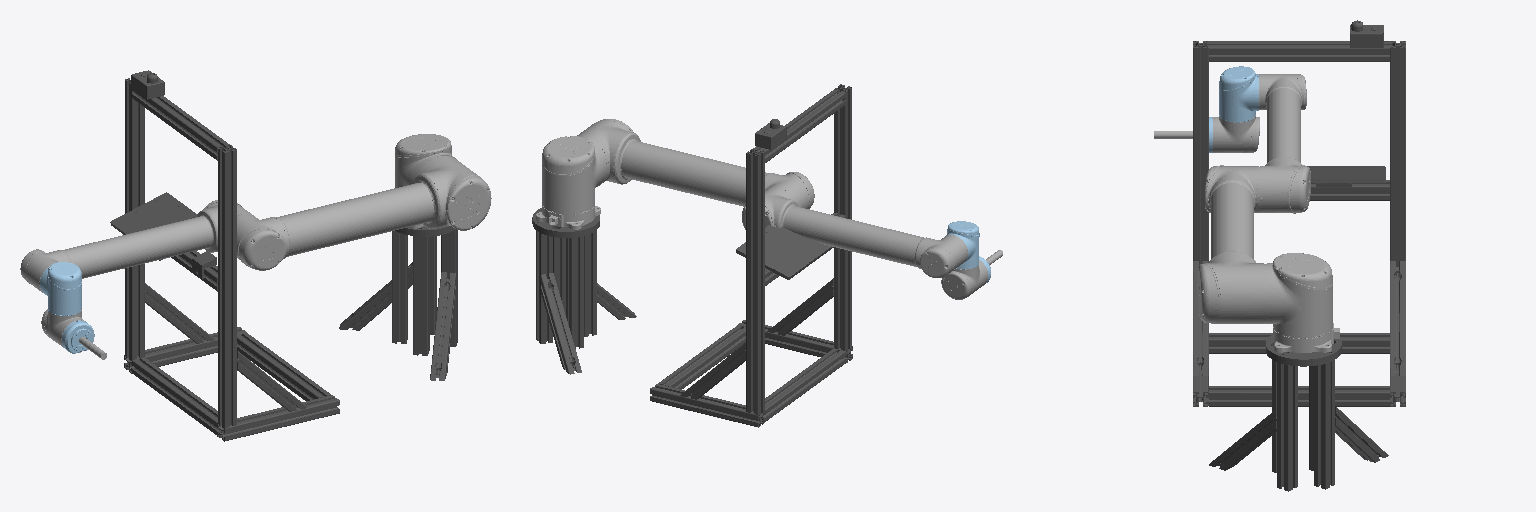
The robot description file, URDF, robot "thing":
<?xml version="1.0" ?>
<!-- =================================================================================== -->
<!-- |    This document was autogenerated by xacro from ridgeback.urdf.xacro           | -->
<!-- |    EDITING THIS FILE BY HAND IS NOT RECOMMENDED                                 | -->
<!-- =================================================================================== -->
<robot name="thing" xmlns:xacro="http://ros.org/wiki/xacro">
  <material name="dark_grey">
    <color rgba="0.2 0.2 0.2 1.0"/>
  </material>
  <material name="light_grey">
    <color rgba="0.4 0.4 0.4 1.0"/>
  </material>
  <material name="red">
    <color rgba="0.8 0.0 0.0 1.0"/>
  </material>
  <material name="white">
    <color rgba="0.9 0.9 0.9 1.0"/>
  </material>
  <material name="yellow">
    <color rgba="0.8 0.8 0.0 1.0"/>
  </material>
  <material name="black">
    <color rgba="0.15 0.15 0.15 1.0"/>
  </material>

  <!-- Ridgeback wheels -->
  <link name="front_rocker_link">
    <visual>
      <origin rpy="1.57079632679 0 1.57079632679" xyz="0 0 0"/>
      <geometry>
        <mesh filename="assets/ridgeback_description/meshes/rocker.stl"/>
      </geometry>
      <material name="black"/>
    </visual>
    <inertial>
      <origin rpy="1.57079632679 0 1.57079632679" xyz="0 0 0"/>
      <mass value="10.267"/>
      <inertia ixx="0.0288" ixy="2.20484e-6" ixz="-1.3145e-5" iyy="0.4324" iyz="1.8944e-3" izz="0.4130"/>
    </inertial>
  </link>
  <joint name="front_rocker" type="fixed">
    <parent link="axle_link"/>
    <child link="front_rocker_link"/>
    <origin rpy="0 0 0" xyz="0.319 0 0"/>
    <axis xyz="1 0 0"/>
    <limit effort="0" lower="-0.08726" upper="0.08726" velocity="0"/>
  </joint>
  <link name="front_left_wheel_link">
    <contact>
      <lateral_friction value="1.0"/>
      <rolling_friction value="0.0"/>
      <stiffness value="30000"/>
      <damping value="10000"/>
    </contact>
    <inertial>
      <origin rpy="0 0 0" xyz="0 0 0"/>
      <mass value="2.637"/>
      <!--<inertia ixx="3.3212e-3" ixy="0" ixz="0" iyy="6.6424e-3" iyz="0" izz="3.3212e-3"/>-->
      <inertia ixx="0.02467" ixy="0" ixz="0" iyy="0.02467" iyz="0" izz="0.04411"/>
    </inertial>
    <visual>
      <origin rpy="1.57079632679 0 0" xyz="0 0 0"/>
      <geometry>
        <mesh filename="assets/ridgeback_description/meshes/wheel.stl"/>
      </geometry>
      <material name="black"/>
    </visual>
    <collision>
      <origin rpy="1.57079632679 0 0" xyz="0 0 0"/>
      <geometry>
        <cylinder length="0.079" radius="0.0759"/>
      </geometry>
    </collision>
  </link>
  <joint name="front_left_wheel" type="fixed">
    <parent link="front_rocker_link"/>
    <child link="front_left_wheel_link"/>
    <origin rpy="0 0 0" xyz="0 0.2755 0"/>
    <axis xyz="0 1 0"/>
  </joint>
  <transmission name="front_wheel_trans">
    <type>transmission_interface/SimpleTransmission</type>
    <joint name="front_left_wheel">
      <hardwareInterface>hardware_interface/VelocityJointInterface</hardwareInterface>
    </joint>
    <actuator name="front_left_actuator">
      <mechanicalReduction>1</mechanicalReduction>
    </actuator>
  </transmission>
  <link name="front_right_wheel_link">
    <contact>
      <lateral_friction value="1.0"/>
      <rolling_friction value="0.0"/>
      <stiffness value="30000"/>
      <damping value="10000"/>
    </contact>
    <inertial>
      <origin rpy="0 0 0" xyz="0 0 0"/>
      <mass value="2.637"/>
      <!--<inertia ixx="3.3212e-3" ixy="0" ixz="0" iyy="6.6424e-3" iyz="0" izz="3.3212e-3"/>-->
      <inertia ixx="0.02467" ixy="0" ixz="0" iyy="0.02467" iyz="0" izz="0.04411"/>
    </inertial>
    <visual>
      <origin rpy="1.57079632679 0 0" xyz="0 0 0"/>
      <geometry>
        <mesh filename="assets/ridgeback_description/meshes/wheel.stl"/>
      </geometry>
      <material name="black"/>
    </visual>
    <collision>
      <origin rpy="1.57079632679 0 0" xyz="0 0 0"/>
      <geometry>
        <cylinder length="0.079" radius="0.0759"/>
      </geometry>
    </collision>
  </link>
  <joint name="front_right_wheel" type="fixed">
    <parent link="front_rocker_link"/>
    <child link="front_right_wheel_link"/>
    <origin rpy="0 0 0" xyz="0 -0.2755 0"/>
    <axis xyz="0 1 0"/>
  </joint>
  <transmission name="front_wheel_trans">
    <type>transmission_interface/SimpleTransmission</type>
    <joint name="front_right_wheel">
      <hardwareInterface>hardware_interface/VelocityJointInterface</hardwareInterface>
    </joint>
    <actuator name="front_right_actuator">
      <mechanicalReduction>1</mechanicalReduction>
    </actuator>
  </transmission>
  <link name="rear_rocker_link">
    <visual>
      <origin rpy="1.57079632679 0 1.57079632679" xyz="0 0 0"/>
      <geometry>
        <mesh filename="assets/ridgeback_description/meshes/rocker.stl"/>
      </geometry>
      <material name="black"/>
    </visual>
    <inertial>
      <origin rpy="1.57079632679 0 1.57079632679" xyz="0 0 0"/>
      <mass value="10.267"/>
      <inertia ixx="0.0288" ixy="2.20484e-6" ixz="-1.3145e-5" iyy="0.4324" iyz="1.8944e-3" izz="0.4130"/>
    </inertial>
  </link>
  <joint name="rear_rocker" type="fixed">
    <parent link="axle_link"/>
    <child link="rear_rocker_link"/>
    <origin rpy="0 0 0" xyz="-0.319 0 0"/>
    <axis xyz="1 0 0"/>
    <limit effort="0" velocity="0"/>
  </joint>
  <link name="rear_left_wheel_link">
    <contact>
      <lateral_friction value="1.0"/>
      <rolling_friction value="0.0"/>
      <stiffness value="30000"/>
      <damping value="10000"/>
    </contact>
    <inertial>
      <origin rpy="0 0 0" xyz="0 0 0"/>
      <mass value="2.637"/>
      <!--<inertia ixx="3.3212e-3" ixy="0" ixz="0" iyy="6.6424e-3" iyz="0" izz="3.3212e-3"/>-->
      <inertia ixx="0.02467" ixy="0" ixz="0" iyy="0.02467" iyz="0" izz="0.04411"/>
    </inertial>
    <visual>
      <origin rpy="1.57079632679 0 0" xyz="0 0 0"/>
      <geometry>
        <mesh filename="assets/ridgeback_description/meshes/wheel.stl"/>
      </geometry>
      <material name="black"/>
    </visual>
    <collision>
      <origin rpy="1.57079632679 0 0" xyz="0 0 0"/>
      <geometry>
        <cylinder length="0.079" radius="0.0759"/>
      </geometry>
    </collision>
  </link>
  <joint name="rear_left_wheel" type="fixed">
    <parent link="rear_rocker_link"/>
    <child link="rear_left_wheel_link"/>
    <origin rpy="0 0 0" xyz="0 0.2755 0"/>
    <axis xyz="0 1 0"/>
  </joint>
  <transmission name="rear_wheel_trans">
    <type>transmission_interface/SimpleTransmission</type>
    <joint name="rear_left_wheel">
      <hardwareInterface>hardware_interface/VelocityJointInterface</hardwareInterface>
    </joint>
    <actuator name="rear_left_actuator">
      <mechanicalReduction>1</mechanicalReduction>
    </actuator>
  </transmission>
  <link name="rear_right_wheel_link">
    <contact>
      <lateral_friction value="1.0"/>
      <rolling_friction value="0.0"/>
      <stiffness value="30000"/>
      <damping value="10000"/>
    </contact>
    <inertial>
      <origin rpy="0 0 0" xyz="0 0 0"/>
      <mass value="2.637"/>
      <!--<inertia ixx="3.3212e-3" ixy="0" ixz="0" iyy="6.6424e-3" iyz="0" izz="3.3212e-3"/>-->
      <inertia ixx="0.02467" ixy="0" ixz="0" iyy="0.02467" iyz="0" izz="0.04411"/>
    </inertial>
    <visual>
      <origin rpy="1.57079632679 0 0" xyz="0 0 0"/>
      <geometry>
        <mesh filename="assets/ridgeback_description/meshes/wheel.stl"/>
      </geometry>
      <material name="black"/>
    </visual>
    <collision>
      <origin rpy="1.57079632679 0 0" xyz="0 0 0"/>
      <geometry>
        <cylinder length="0.079" radius="0.0759"/>
      </geometry>
    </collision>
  </link>
  <joint name="rear_right_wheel" type="fixed">
    <parent link="rear_rocker_link"/>
    <child link="rear_right_wheel_link"/>
    <origin rpy="0 0 0" xyz="0 -0.2755 0"/>
    <axis xyz="0 1 0"/>
  </joint>
  <transmission name="rear_wheel_trans">
    <type>transmission_interface/SimpleTransmission</type>
    <joint name="rear_right_wheel">
      <hardwareInterface>hardware_interface/VelocityJointInterface</hardwareInterface>
    </joint>
    <actuator name="rear_right_actuator">
      <mechanicalReduction>1</mechanicalReduction>
    </actuator>
  </transmission>
  <link name="base_link"/>
  <joint name="base_link_joint" type="fixed">
    <origin rpy="0 0 0" xyz="0 0 0"/>
    <parent link="base_link"/>
    <child link="chassis_link"/>
  </joint>
  <link name="chassis_link">
    <visual>
      <origin rpy="0 0 0" xyz="0 0 0"/>
      <geometry>
        <mesh filename="assets/ridgeback_description/meshes/body.stl"/>
      </geometry>
      <material name="black"/>
    </visual>
    <collision>
      <origin xyz="0 0 0"/>
      <geometry>
        <mesh filename="assets/ridgeback_description/meshes/body-collision.stl"/>
      </geometry>
    </collision>
    <inertial>
      <origin rpy="1.57079632679 0 1.57079632679" xyz="0.012 0.002 0.067"/>
      <mass value="300.304"/>
      <inertia ixx="4.4744" ixy="0.03098" ixz="0.003647" iyy="7.1624" iyz="0.1228" izz="4.6155"/>
    </inertial>
  </link>
  <joint name="right_side_cover_link_joint" type="fixed">
    <origin rpy="0 0 0" xyz="0 0 0"/>
    <parent link="chassis_link"/>
    <child link="right_side_cover_link"/>
  </joint>
  <joint name="left_side_cover_link_joint" type="fixed">
    <origin rpy="0 0 0" xyz="0 0 0"/>
    <parent link="chassis_link"/>
    <child link="left_side_cover_link"/>
  </joint>
  <link name="left_side_cover_link">
    <visual>
      <origin rpy="0 0 3.14159265359" xyz="0 0 0"/>
      <geometry>
        <mesh filename="assets/ridgeback_description/meshes/side-cover.stl"/>
      </geometry>
      <material name="yellow"/>
    </visual>
  </link>
  <link name="right_side_cover_link">
    <visual>
      <origin rpy="0 0 0" xyz="0 0 0"/>
      <geometry>
        <mesh filename="assets/ridgeback_description/meshes/side-cover.stl"/>
      </geometry>
      <material name="yellow"/>
    </visual>
  </link>
  <joint name="front_cover_link_joint" type="fixed">
    <origin rpy="0 0 0" xyz="0 0 0"/>
    <parent link="chassis_link"/>
    <child link="front_cover_link"/>
  </joint>
  <link name="front_cover_link">
    <visual>
      <origin rpy="0 0 0" xyz="0 0 0"/>
      <geometry>
        <mesh filename="assets/ridgeback_description/meshes/end-cover.stl"/>
      </geometry>
      <material name="black"/>
    </visual>
  </link>
  <joint name="rear_cover_link_joint" type="fixed">
    <origin rpy="0 0 0" xyz="0 0 0"/>
    <parent link="chassis_link"/>
    <child link="rear_cover_link"/>
  </joint>
  <link name="rear_cover_link">
    <visual>
      <origin rpy="0 0 3.14159265359" xyz="0 0 0"/>
      <geometry>
        <mesh filename="assets/ridgeback_description/meshes/end-cover.stl"/>
      </geometry>
      <material name="black"/>
    </visual>
  </link>
  <joint name="front_lights_link_joint" type="fixed">
    <origin rpy="0 0 0" xyz="0 0 0"/>
    <parent link="chassis_link"/>
    <child link="front_lights_link"/>
  </joint>
  <joint name="rear_lights_link_joint" type="fixed">
    <origin rpy="0 0 0" xyz="0 0 0"/>
    <parent link="chassis_link"/>
    <child link="rear_lights_link"/>
  </joint>
  <link name="front_lights_link">
    <visual>
      <origin rpy="0 0 0" xyz="0 0 0"/>
      <geometry>
        <mesh filename="assets/ridgeback_description/meshes/lights.stl"/>
      </geometry>
      <material name="white"/>
    </visual>
  </link>
  <link name="rear_lights_link">
    <visual>
      <origin rpy="0 0 3.14159265359" xyz="0 0 0"/>
      <geometry>
        <mesh filename="assets/ridgeback_description/meshes/lights.stl"/>
      </geometry>
      <material name="red"/>
    </visual>
  </link>
  <joint name="top_link_joint" type="fixed">
    <origin rpy="0 0 0" xyz="0 0 0"/>
    <parent link="chassis_link"/>
    <child link="top_link"/>
  </joint>
  <link name="top_link">
    <visual>
      <origin rpy="0 0 0" xyz="0 0 0"/>
      <geometry>
        <mesh filename="assets/ridgeback_description/meshes/top.stl"/>
      </geometry>
      <material name="black"/>
    </visual>
    <collision>
      <origin rpy="0 0 0" xyz="0 0 0"/>
      <geometry>
        <mesh filename="assets/ridgeback_description/meshes/top.stl"/>
      </geometry>
    </collision>
  </link>
  <joint name="axle_joint" type="fixed">
    <origin rpy="0 0 0" xyz="0 0 0.05"/>
    <parent link="chassis_link"/>
    <child link="axle_link"/>
  </joint>
  <link name="axle_link">
    <visual>
      <origin rpy="0 1.57079632679 0" xyz="0 0 0"/>
      <geometry>
        <mesh filename="assets/ridgeback_description/meshes/axle.stl"/>
      </geometry>
      <material name="black"/>
    </visual>
  </link>
  <link name="imu_link">
    <inertial>
      <mass value="0.001"/>
      <origin rpy="0 0 0" xyz="0 0 0"/>
      <inertia ixx="1e-09" ixy="0.0" ixz="0.0" iyy="1e-09" iyz="0.0" izz="1e-09"/>
    </inertial>
  </link>
  <joint name="imu_joint" type="fixed">
    <parent link="chassis_link"/>
    <child link="imu_link"/>
    <origin rpy="0 0 0" xyz="0.2085 -0.2902 0.1681"/>
  </joint>
  <link name="mid_mount"/>
  <joint name="mid_mount_joint" type="fixed">
    <parent link="base_link"/>
    <child link="mid_mount"/>
    <origin rpy="0 0 0" xyz="0 0 0.28"/>
  </joint>

  <link name="arch_link">
  <visual>
    <origin rpy="1.570795 0 0" xyz="0.0 0.0 0.0"/>
    <geometry>
      <mesh filename="assets/ridgeback_description/meshes/tor11_mech.stl" />
    </geometry>
    <material name="light_grey"/>
  </visual>
  <collision>
    <origin rpy="1.570795 0 0" xyz="0.0 0.0 0.0"/>
    <geometry>
      <mesh filename="assets/ridgeback_description/meshes/tor11_mech.stl" />
    </geometry>
  </collision>
 </link>

<joint name="arch_joint" type="fixed">
  <origin xyz="0 0 0.278" rpy="0 0 1.57" />
  <parent link="top_link" />
  <child link="arch_link" />
</joint>

<!-- Join arm and arch link -->
<joint name="ur10_arm_base" type="fixed">
  <parent link="arch_link" />
  <child link="ur10_base_link" />
  <origin xyz="0.01 -0.27 0.375" rpy="0.0 0.0 1.570796" />
</joint>

<!-- common stuff -->
<material name="blackish">
  <color rgba="0.2 0.2 0.2 1"/>
</material>
<material name="LightGrey">
  <color rgba="0.7 0.7 0.7 1.0"/>
</material>
<material name="LightBlue">
  <color rgba="0.670 0.815 0.921 1.0"/>
</material>

<link name="ur10_base_link">
  <visual>
    <origin xyz="0 0 0" rpy="1.57 0 0"/>
    <geometry>
      <mesh filename="assets/ur_description/meshes/ur10/visual/Base.obj"/>
    </geometry>
    <material name="LightGrey"/>
  </visual>
  <collision>
    <geometry>
      <mesh filename="assets/ur_description/meshes/ur10/collision/base.stl"/>
    </geometry>
  </collision>
  <inertial>
    <mass value="8.0"/>
    <origin rpy="0 0 0" xyz="0.0 0.0 0.0"/>
    <inertia ixx="0.0061063308908" ixy="0.0" ixz="0.0" iyy="0.0061063308908" iyz="0.0" izz="0.01125"/>
  </inertial>
</link>
<joint name="shoulder_pan_joint" type="revolute">
  <parent link="ur10_base_link"/>
  <child link="shoulder_link"/>
  <origin rpy="0.0 0.0 0.0" xyz="0.0 0.0 0.1273"/>
  <axis xyz="0 0 1"/>
  <limit effort="330.0" lower="-6.2831853" upper="6.2831853" velocity="2.16"/>
  <dynamics damping="0.0" friction="0.0"/>
</joint>
<link name="shoulder_link">
  <visual>
    <origin xyz="0 0 0" rpy="1.57 0 0"/>
    <geometry>
      <mesh filename="assets/ur_description/meshes/ur10/visual/Shoulder.obj"/>
    </geometry>
    <material name="LightGrey"/>
  </visual>
  <collision>
    <geometry>
      <mesh filename="assets/ur_description/meshes/ur10/collision/shoulder.stl"/>
    </geometry>
  </collision>
  <inertial>
    <mass value="14.778"/>
    <origin rpy="0 0 0" xyz="0.0 0.0 0.0"/>
    <inertia ixx="0.0314743125769" ixy="0.0" ixz="0.0" iyy="0.0314743125769" iyz="0.0" izz="0.021875625"/>
  </inertial>
</link>
<joint name="shoulder_lift_joint" type="revolute">
  <parent link="shoulder_link"/>
  <child link="upper_arm_link"/>
  <origin rpy="0.0 1.570796325 0.0" xyz="0.0 0.220941 0.0"/>
  <axis xyz="0 1 0"/>
  <limit effort="330.0" lower="-6.2831853" upper="6.2831853" velocity="2.16"/>
  <dynamics damping="0.0" friction="0.0"/>
</joint>
<link name="upper_arm_link">
  <visual>
    <origin xyz="0 0 0" rpy="1.57 0 0"/>
    <geometry>
      <mesh filename="assets/ur_description/meshes/ur10/visual/UpperArm.obj"/>
    </geometry>
    <material name="LightGrey"/>
  </visual>
  <collision>
    <geometry>
      <mesh filename="assets/ur_description/meshes/ur10/collision/upper_arm.stl"/>
    </geometry>
  </collision>
  <inertial>
    <mass value="24.93"/>
    <origin rpy="0 0 0" xyz="0.0 0.0 0.306"/>
    <inertia ixx="0.421753803798" ixy="0.0" ixz="0.0" iyy="0.421753803798" iyz="0.0" izz="0.036365625"/>
  </inertial>
</link>
<joint name="elbow_joint" type="revolute">
  <parent link="upper_arm_link"/>
  <child link="forearm_link"/>
  <origin rpy="0.0 0.0 0.0" xyz="0.0 -0.1719 0.612"/>
  <axis xyz="0 1 0"/>
  <limit effort="150.0" lower="-6.2831853" upper="6.2831853" velocity="3.15"/>
  <dynamics damping="0.0" friction="0.0"/>
</joint>
<link name="forearm_link">
  <visual>
    <origin xyz="0 0 0" rpy="1.57 0 0"/>
    <geometry>
      <mesh filename="assets/ur_description/meshes/ur10/visual/Forearm.obj"/>
    </geometry>
    <material name="LightGrey"/>
  </visual>
  <collision>
    <geometry>
      <mesh filename="assets/ur_description/meshes/ur10/collision/forearm.stl"/>
    </geometry>
  </collision>
  <inertial>
    <mass value="6.87"/>
    <origin rpy="0 0 0" xyz="0.0 0.0 0.28615"/>
    <inertia ixx="0.111069694097" ixy="0.0" ixz="0.0" iyy="0.111069694097" iyz="0.0" izz="0.010884375"/>
  </inertial>
</link>
<joint name="wrist_1_joint" type="revolute">
  <parent link="forearm_link"/>
  <child link="wrist_1_link"/>
  <origin rpy="0.0 1.570796325 0.0" xyz="0.0 0.0 0.5723"/>
  <axis xyz="0 1 0"/>
  <limit effort="54.0" lower="-6.2831853" upper="6.2831853" velocity="3.2"/>
  <dynamics damping="0.0" friction="0.0"/>
</joint>
<link name="wrist_1_link">
  <visual>
    <origin xyz="0 0 0" rpy="1.57 0 0"/>
    <geometry>
      <mesh filename="assets/ur_description/meshes/ur10/visual/Wrist1.obj"/>
    </geometry>
    <material name="LightBlue"/>
  </visual>
  <collision>
    <geometry>
      <mesh filename="assets/ur_description/meshes/ur10/collision/wrist_1.stl"/>
    </geometry>
  </collision>
  <inertial>
    <mass value="2.96"/>
    <origin rpy="0 0 0" xyz="0.0 0.0 0.0"/>
    <inertia ixx="0.0051082479567" ixy="0.0" ixz="0.0" iyy="0.0051082479567" iyz="0.0" izz="0.0055125"/>
  </inertial>
</link>
<joint name="wrist_2_joint" type="revolute">
  <parent link="wrist_1_link"/>
  <child link="wrist_2_link"/>
  <origin rpy="0.0 0.0 0.0" xyz="0.0 0.1149 0.0"/>
  <axis xyz="0 0 1"/>
  <limit effort="54.0" lower="-6.2831853" upper="6.2831853" velocity="3.2"/>
  <dynamics damping="0.0" friction="0.0"/>
</joint>
<link name="wrist_2_link">
  <visual>
    <origin xyz="0 0 0" rpy="1.57 0 0"/>
    <geometry>
      <mesh filename="assets/ur_description/meshes/ur10/visual/Wrist2.obj"/>
    </geometry>
    <material name="LightGrey"/>
  </visual>
  <collision>
    <geometry>
      <mesh filename="assets/ur_description/meshes/ur10/collision/wrist_2.stl"/>
    </geometry>
  </collision>
  <inertial>
    <mass value="2.96"/>
    <origin rpy="0 0 0" xyz="0.0 0.0 0.0"/>
    <inertia ixx="0.0051082479567" ixy="0.0" ixz="0.0" iyy="0.0051082479567" iyz="0.0" izz="0.0055125"/>
  </inertial>
</link>
<joint name="wrist_3_joint" type="revolute">
  <parent link="wrist_2_link"/>
  <child link="wrist_3_link"/>
  <origin rpy="0.0 0.0 0.0" xyz="0.0 0.0 0.1157"/>
  <axis xyz="0 1 0"/>
  <limit effort="54.0" lower="-6.2831853" upper="6.2831853" velocity="3.2"/>
  <dynamics damping="0.0" friction="0.0"/>
</joint>
<link name="wrist_3_link">
  <visual>
    <origin xyz="0 0 0" rpy="1.57 0 0"/>
    <geometry>
      <mesh filename="assets/ur_description/meshes/ur10/visual/Wrist3.obj"/>
    </geometry>
    <material name="LightBlue"/>
  </visual>
  <collision>
    <geometry>
      <mesh filename="assets/ur_description/meshes/ur10/collision/wrist_3.stl"/>
    </geometry>
  </collision>
  <inertial>
    <mass value="1.202"/>
    <origin rpy="0 0 0" xyz="0.0 0.0 0.0"/>
    <inertia ixx="0.000526462289415" ixy="0.0" ixz="0.0" iyy="0.000526462289415" iyz="0.0" izz="0.000568125"/>
  </inertial>
</link>
<joint name="ee_fixed_joint" type="fixed">
  <parent link="wrist_3_link"/>
  <child link="ee_link"/>
  <origin rpy="0.0 0.0 1.570796325" xyz="0.0 0.0922 0.0"/>
</joint>
<link name="ee_link">
  <visual>
    <origin xyz="0.0575 0 0" rpy="0 1.57 0"/>
    <geometry>
      <cylinder radius="0.01" length="0.115"/>
    </geometry>
    <material name="LightGrey"/>
  </visual>
  <collision>
    <origin xyz="0.0575 0 0" rpy="0 1.57 0"/>
    <geometry>
      <cylinder radius="0.01" length="0.115"/>
    </geometry>
  </collision>
  <inertial>
    <mass value="0.1"/>
    <origin rpy="0.055 0 0" xyz="0.0 0.0 0.0"/>
    <inertia ixx="0.000526462289415" ixy="0.0" ixz="0.0" iyy="0.000526462289415" iyz="0.0" izz="0.000568125"/>
    <!-- <inertia ixx="1" ixy="0.0" ixz="0.0" iyy="1" iyz="0.0" izz="1"/> -->
  </inertial>
</link>

<!-- fix for broken jacobian calculations -->
<link name="world"/>
 <joint name="world_joint" type="fixed">
   <parent link="world"/>
   <child link="base_link"/>
   <origin rpy="0.0 0.0 0.0" xyz="0.0 0.0 0.0"/>
 </joint>

<!-- tool frame: for this robot, should be the end of the rod -->
<link name="tool_link">
  <visual>
    <geometry>
      <box size=".0001 .0001 .0001"/>
    </geometry>
  </visual>
</link>
<joint name="tool_joint" type="fixed">
  <parent link="ee_link"/>
  <child link="tool_link"/>
  <origin rpy="-1.570796325 0 -1.570796325" xyz="0.115 0.0 0.0"/>
</joint>

</robot>

--- What the picture shows (computed from the rendered views, not written in the file) ---
The picture shows the robot from 3 angles, left to right: view 1: azimuth 30°, elevation 25°; view 2: azimuth 150°, elevation 25°; view 3: azimuth 270°, elevation 25°; orthographic projection.
Robot: thing — 29 links, 28 joints (6 revolute, 22 fixed); root link world; default pose: every joint at zero.
Links seen in each view (by area): view 1: arch_link, upper_arm_link, forearm_link, shoulder_link, wrist_1_link, wrist_3_link, wrist_2_link; view 2: arch_link, upper_arm_link, forearm_link, shoulder_link, wrist_2_link, wrist_1_link, ur10_base_link; view 3: arch_link, upper_arm_link, forearm_link, shoulder_link, wrist_1_link, wrist_2_link, ur10_base_link.
Boxes of the visible links, bbox=[...] form: arch_link: bbox=[110, 70, 457, 441]; upper_arm_link: bbox=[237, 156, 491, 270]; forearm_link: bbox=[20, 200, 253, 292]; shoulder_link: bbox=[395, 134, 456, 187]; wrist_1_link: bbox=[40, 262, 81, 315]; wrist_3_link: bbox=[62, 320, 94, 353]; wrist_2_link: bbox=[41, 309, 85, 347]; arch_link: bbox=[532, 84, 852, 427]; upper_arm_link: bbox=[577, 119, 814, 208]; forearm_link: bbox=[742, 187, 967, 277]; shoulder_link: bbox=[542, 136, 606, 214]; wrist_2_link: bbox=[941, 260, 987, 299]; wrist_1_link: bbox=[946, 221, 979, 269]; ur10_base_link: bbox=[536, 206, 600, 229]; arch_link: bbox=[1193, 20, 1405, 491]; upper_arm_link: bbox=[1197, 165, 1267, 323]; forearm_link: bbox=[1256, 74, 1310, 213]; shoulder_link: bbox=[1268, 253, 1332, 338]; wrist_1_link: bbox=[1219, 66, 1258, 122]; wrist_2_link: bbox=[1213, 115, 1259, 152]; ur10_base_link: bbox=[1273, 323, 1339, 352].
Size in the robot's own frame: 1.33 by 0.6259 by 0.9 metres.
Meshes: 16 distinct files referenced, 8 mesh visuals loaded (1 binary STL, 7 OBJ); not drawn: 15 (reference not matched to a file when rendering).